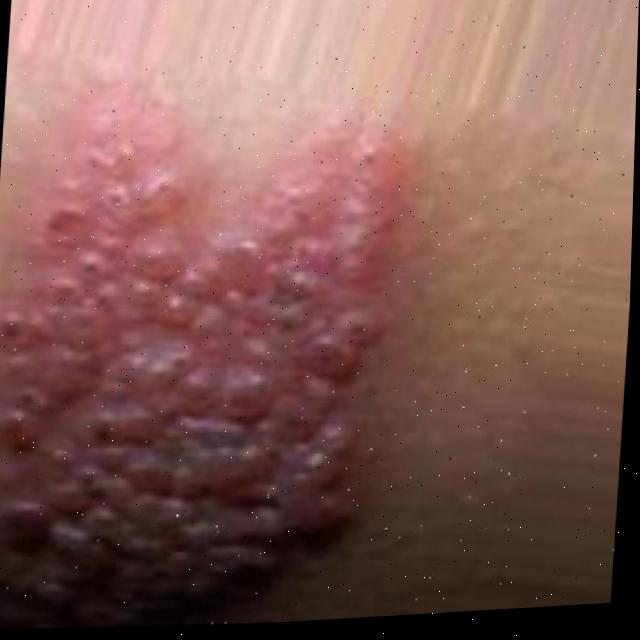Shingles: (0, 100, 390, 630)
